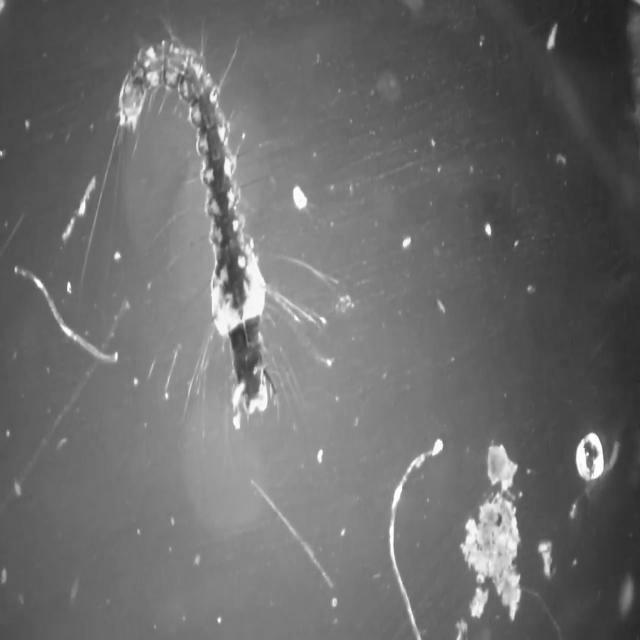larvas: (122, 40, 275, 412)
